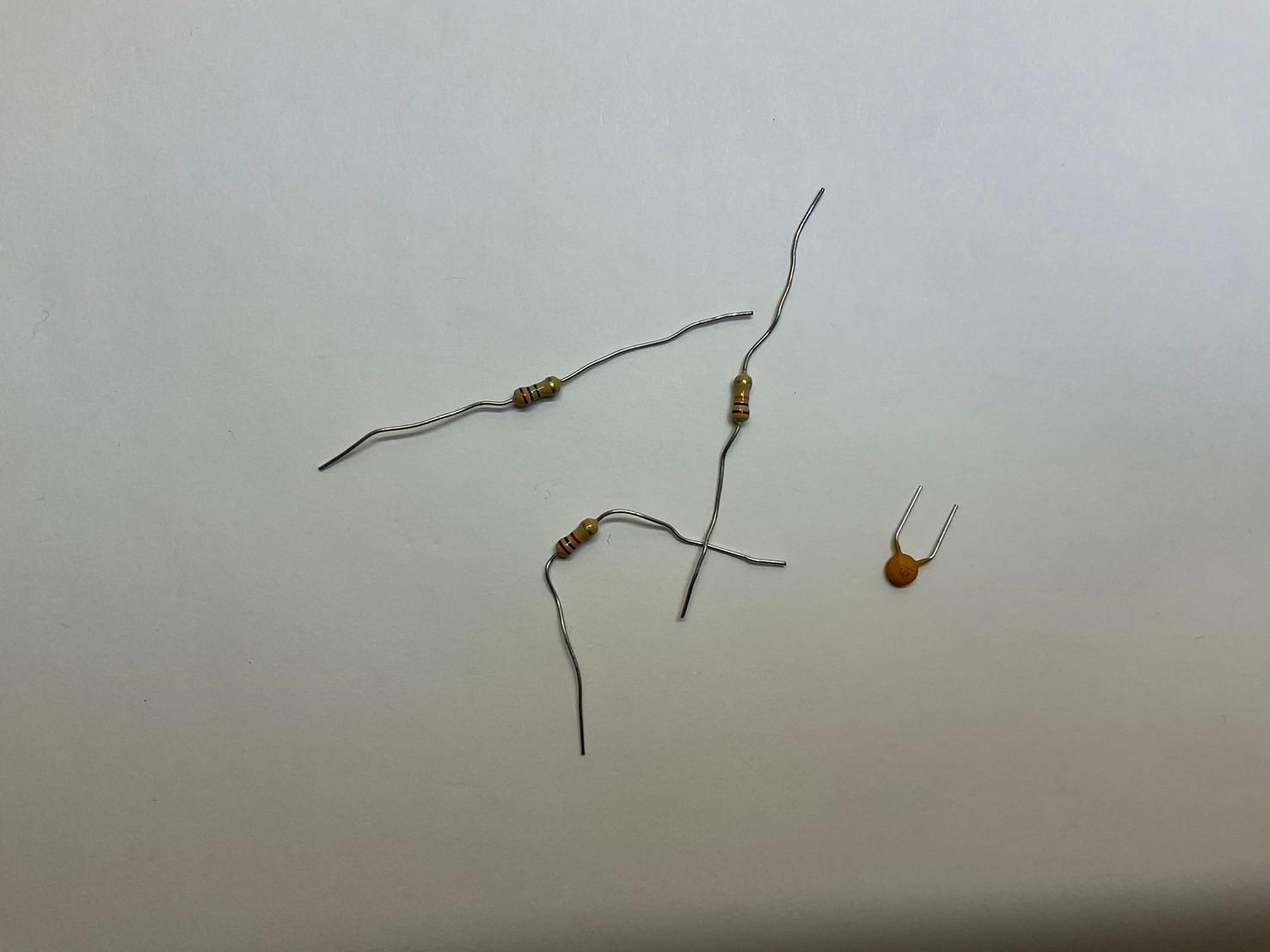resistor: (554, 517, 601, 560), (512, 376, 565, 410), (728, 372, 757, 428)
